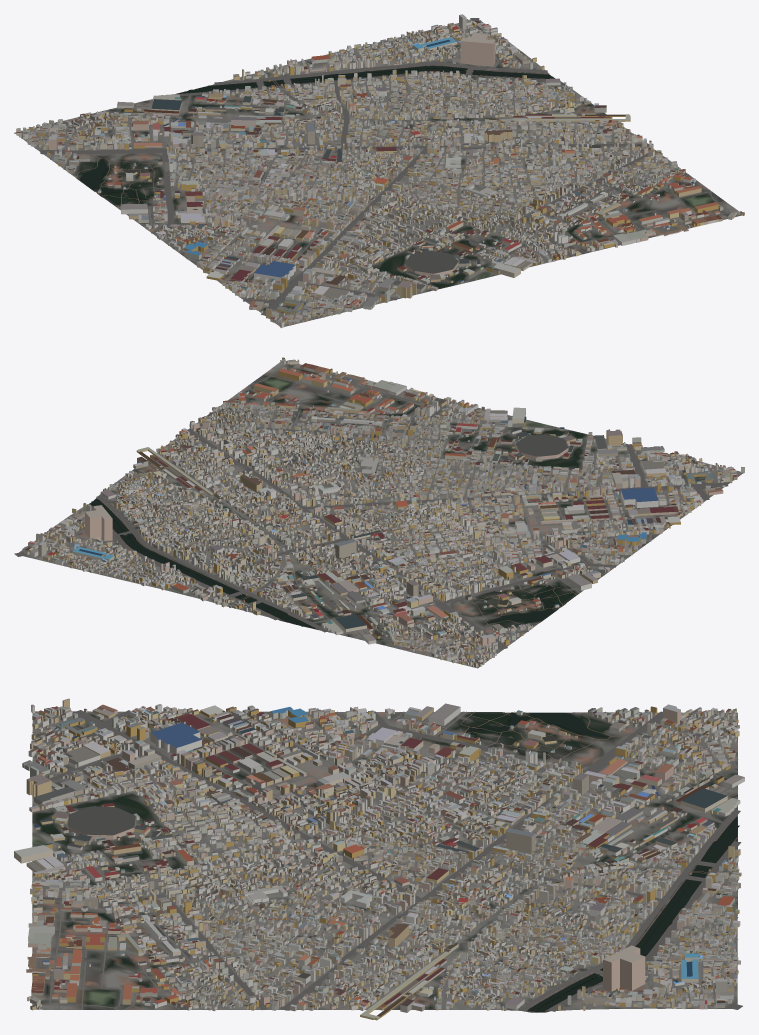
3 views of the same model, one above another, from view 1: azimuth 30°, elevation 25°; view 2: azimuth 150°, elevation 25°; view 3: azimuth 270°, elevation 25° (orthographic). The views are drawn at different scales.
Parts seen in each view (by area): view 1: buildings, ground, roads, water; view 2: buildings, ground, roads, water; view 3: buildings, ground, roads, water.
Boxes of the visible parts, <box> form: buildings: <box>16,14,744,328</box>; ground: <box>14,23,741,326</box>; roads: <box>21,18,733,326</box>; water: <box>80,66,554,200</box>; buildings: <box>22,357,744,667</box>; ground: <box>19,361,743,668</box>; roads: <box>14,367,742,666</box>; water: <box>90,498,563,629</box>; buildings: <box>14,698,744,1020</box>; ground: <box>32,711,737,1012</box>; roads: <box>32,710,742,1011</box>; water: <box>466,712,739,1012</box>.
Bounding box in the file's own units: 1465 × 70.75 × 1451.
